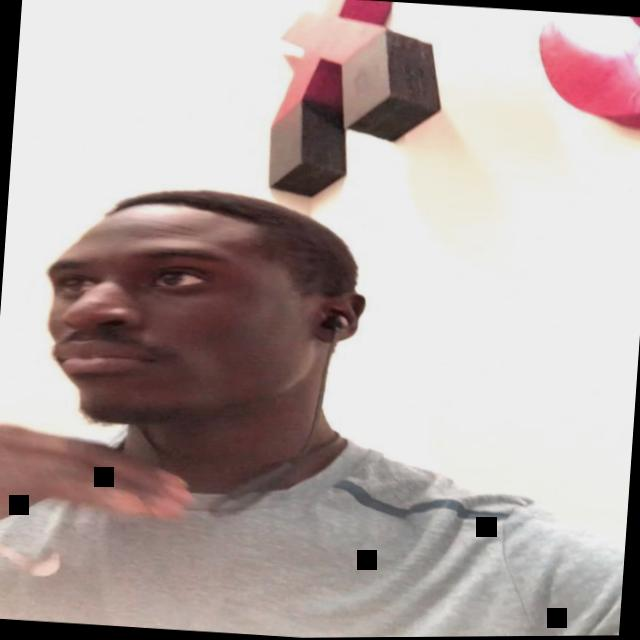NO-Mask: (38, 209, 344, 441)
